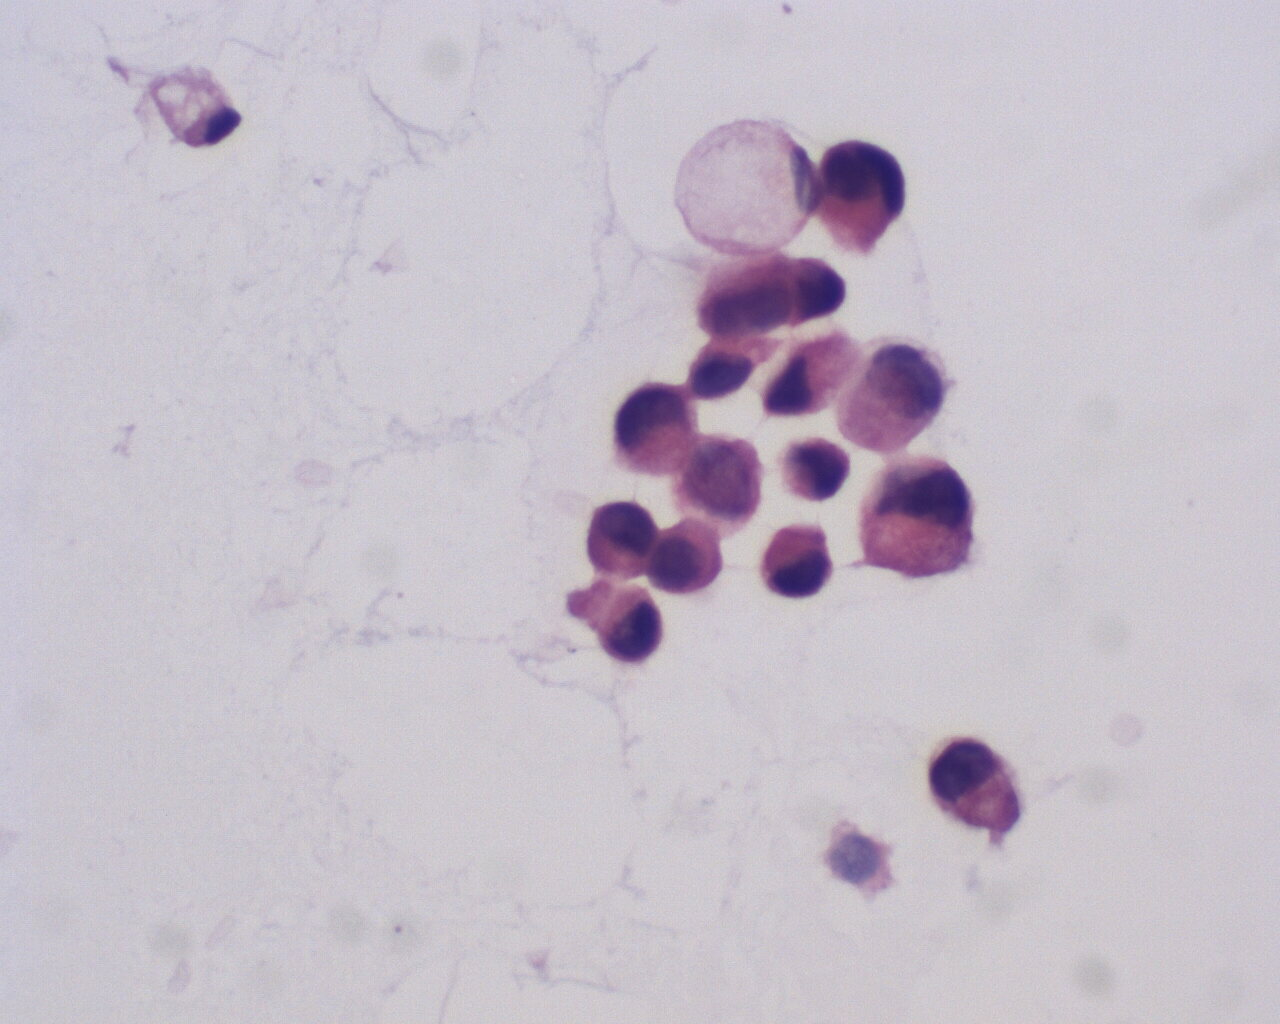ab: (854, 455, 983, 585), (928, 725, 1035, 843), (811, 130, 910, 256), (584, 586, 670, 671), (648, 513, 728, 599), (578, 499, 656, 583), (778, 432, 853, 505)
histo: (671, 108, 823, 256)
meso: (755, 517, 834, 599)
